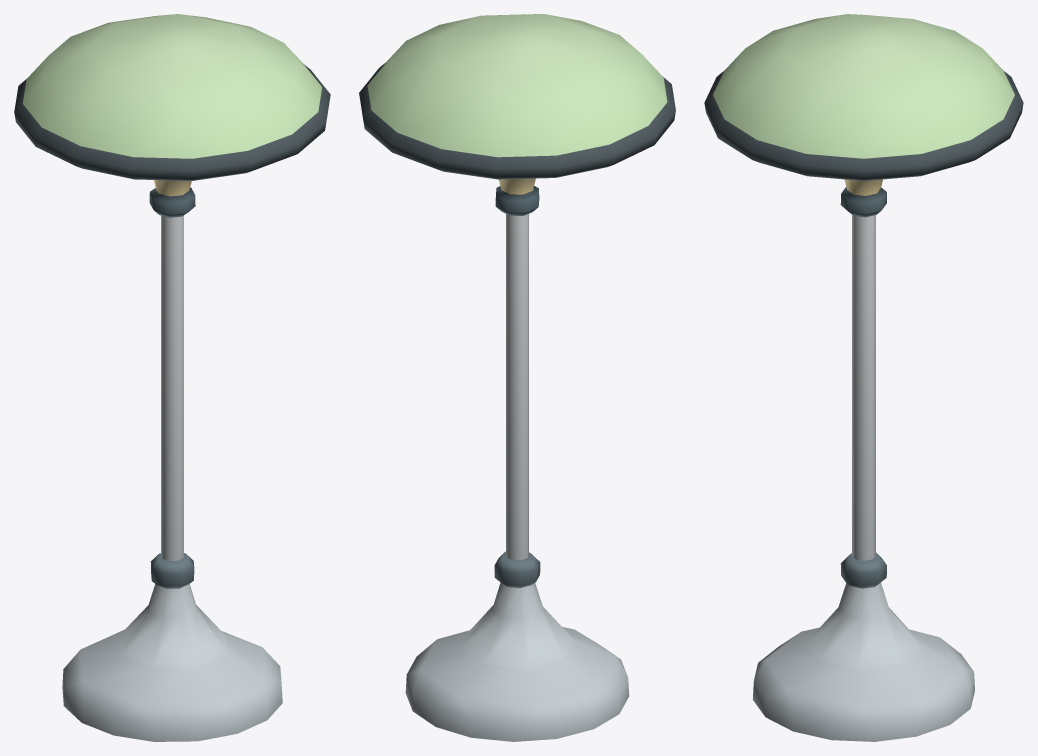
Rendered from Furniture_Lamp_06.fbx.
3 views of the same model, side by side, from view 1: azimuth 30°, elevation 25°; view 2: azimuth 150°, elevation 25°; view 3: azimuth 270°, elevation 25° (orthographic).
Parts seen in each view (by area): view 1: Furniture_Lamp_06; view 2: Furniture_Lamp_06; view 3: Furniture_Lamp_06.
Boxes of the visible parts, left/top/right/bottom form: Furniture_Lamp_06: left=14, top=14, right=330, bottom=741; Furniture_Lamp_06: left=359, top=14, right=675, bottom=741; Furniture_Lamp_06: left=704, top=14, right=1023, bottom=741.
Size of the model in its own units: 132 by 300 by 132.
